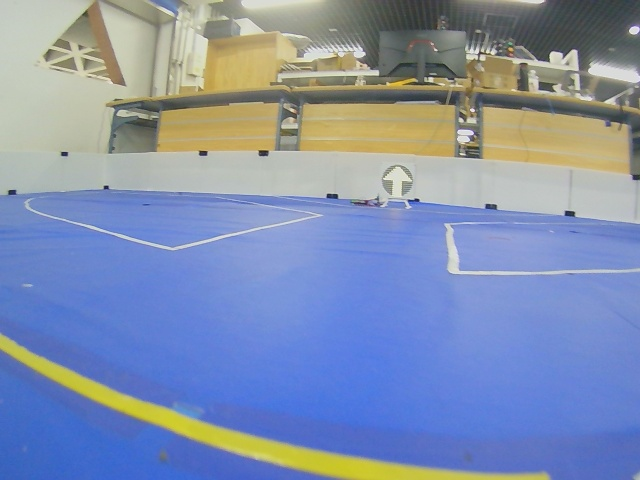straight_yellow: (382, 165, 413, 197)
